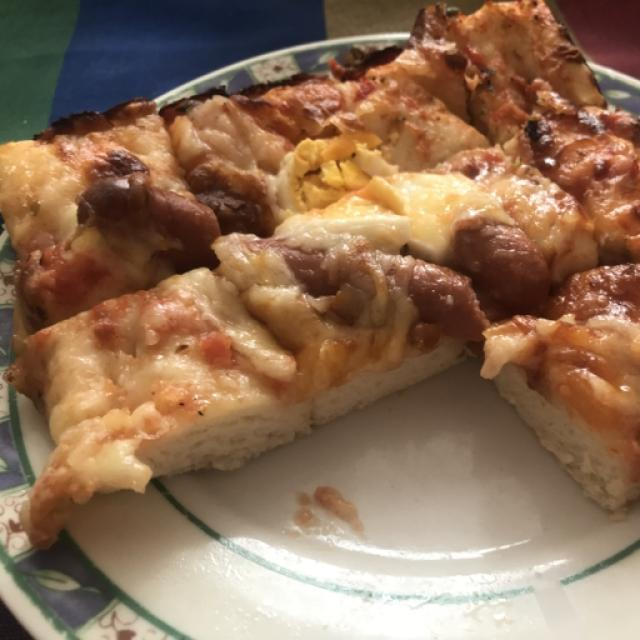pizza: (0, 0, 640, 548)
